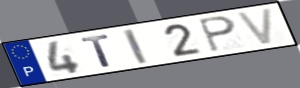2: (162, 23, 205, 58)
4: (47, 39, 83, 75)
I: (121, 27, 151, 65)
P: (196, 15, 239, 54)
T: (79, 33, 114, 69)
V: (234, 6, 275, 47)
